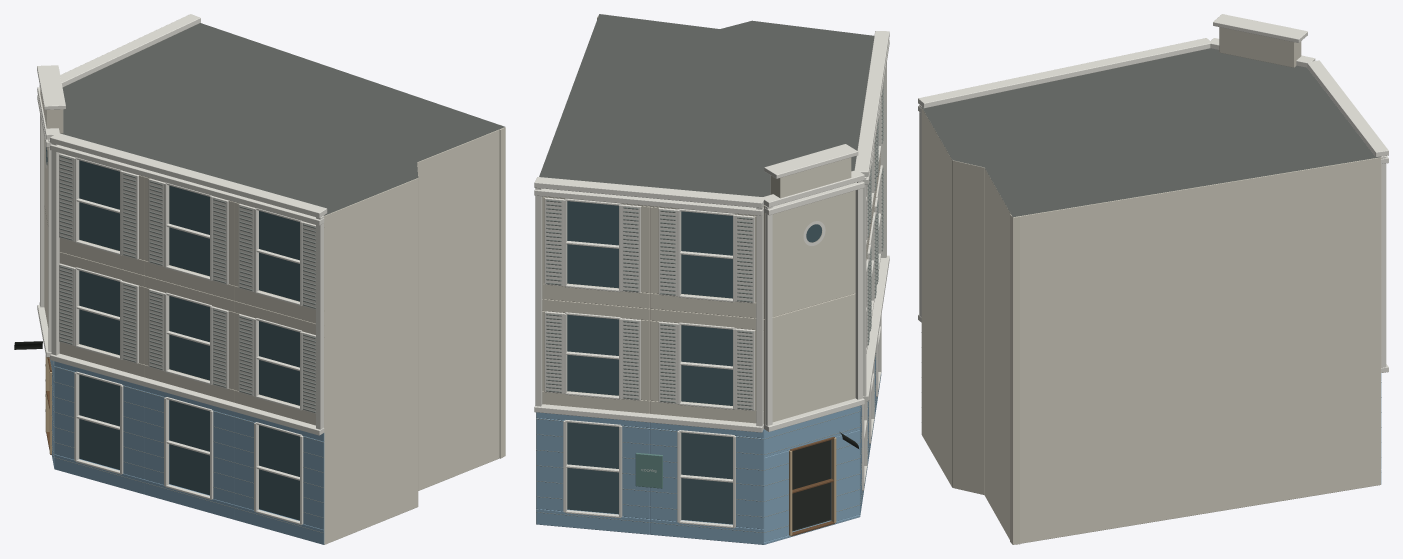
Rendered from 49l-exterior-203bf040d745.glb.
3 renders of one model, left to right at view 1: azimuth 30°, elevation 25°; view 2: azimuth 150°, elevation 25°; view 3: azimuth 270°, elevation 25°, orthographic. The views are drawn at different scales.
Parts seen in each view (by area): view 1: 49L.001; view 2: 49L.001; view 3: 49L.001.
Boxes of the visible parts, bbox=[...] form: 49L.001: bbox=[14, 14, 505, 544]; 49L.001: bbox=[534, 14, 889, 544]; 49L.001: bbox=[918, 14, 1388, 544].
Bounding box in the file's own units: 12.79 × 11.91 × 14.19.
